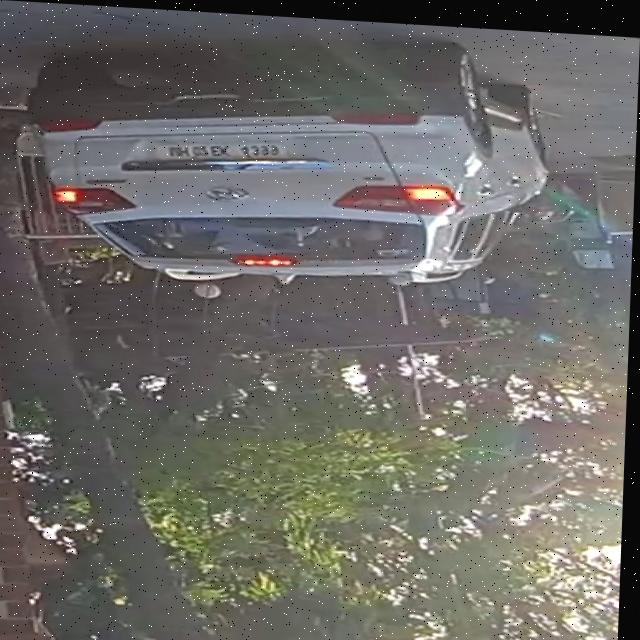plate: (159, 131, 291, 163)
